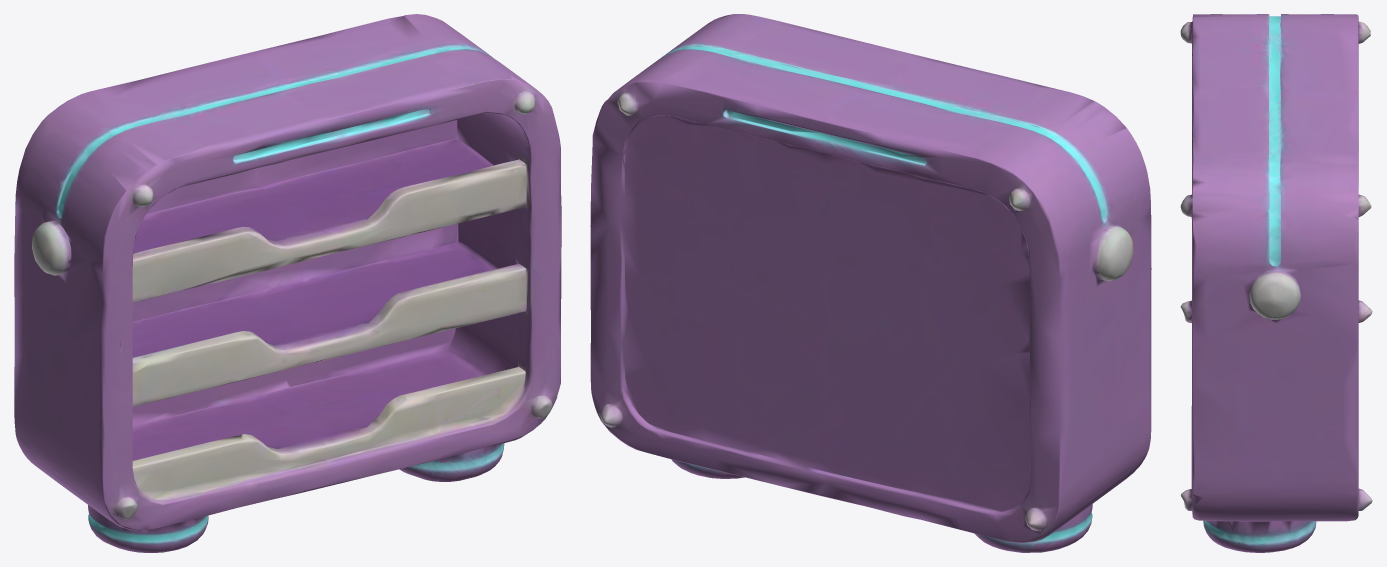
The model's file is library_bookshelf.glb.
3 views of the same model, side by side, from view 1: azimuth 30°, elevation 25°; view 2: azimuth 150°, elevation 25°; view 3: azimuth 270°, elevation 25° (orthographic). The views are drawn at different scales.
Parts seen in each view (by area): view 1: tripo_node_d3fc1dcd-74e8-45f7-bf6a-8891207b80d4; view 2: tripo_node_d3fc1dcd-74e8-45f7-bf6a-8891207b80d4; view 3: tripo_node_d3fc1dcd-74e8-45f7-bf6a-8891207b80d4.
Part boxes in pixels (bbox=[...]): tripo_node_d3fc1dcd-74e8-45f7-bf6a-8891207b80d4: bbox=[14, 14, 561, 552]; tripo_node_d3fc1dcd-74e8-45f7-bf6a-8891207b80d4: bbox=[590, 14, 1151, 552]; tripo_node_d3fc1dcd-74e8-45f7-bf6a-8891207b80d4: bbox=[1180, 14, 1372, 552].
Bounding box in the file's own units: 1.4 × 1.08 × 0.5011.
Materials: 1 (1 with a texture image).
